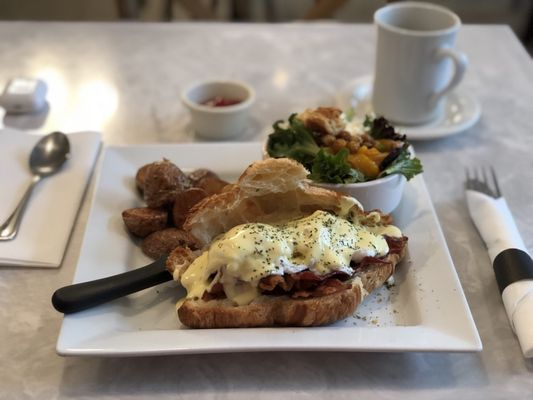burger: (464, 163, 533, 374), (478, 162, 533, 257)
pizza: (372, 1, 470, 127)
salad: (0, 131, 70, 243)
soup: (174, 208, 409, 329)
sushi: (266, 108, 418, 215), (180, 79, 257, 140), (308, 174, 407, 216)
